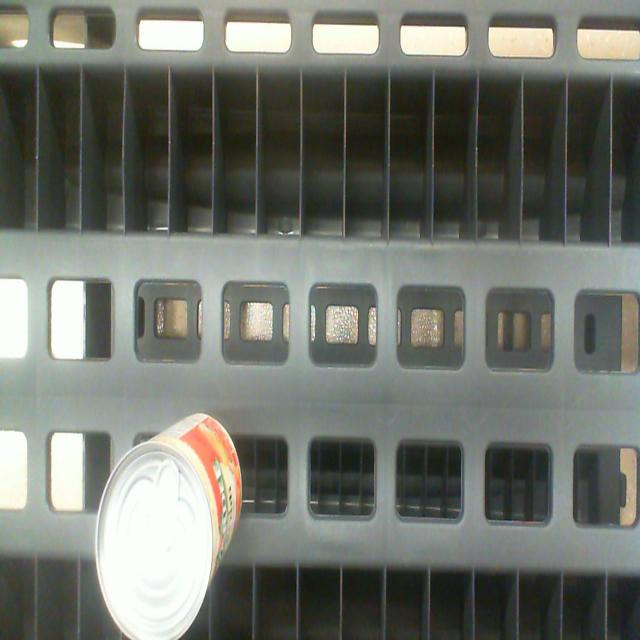can: (96, 442, 213, 640)
